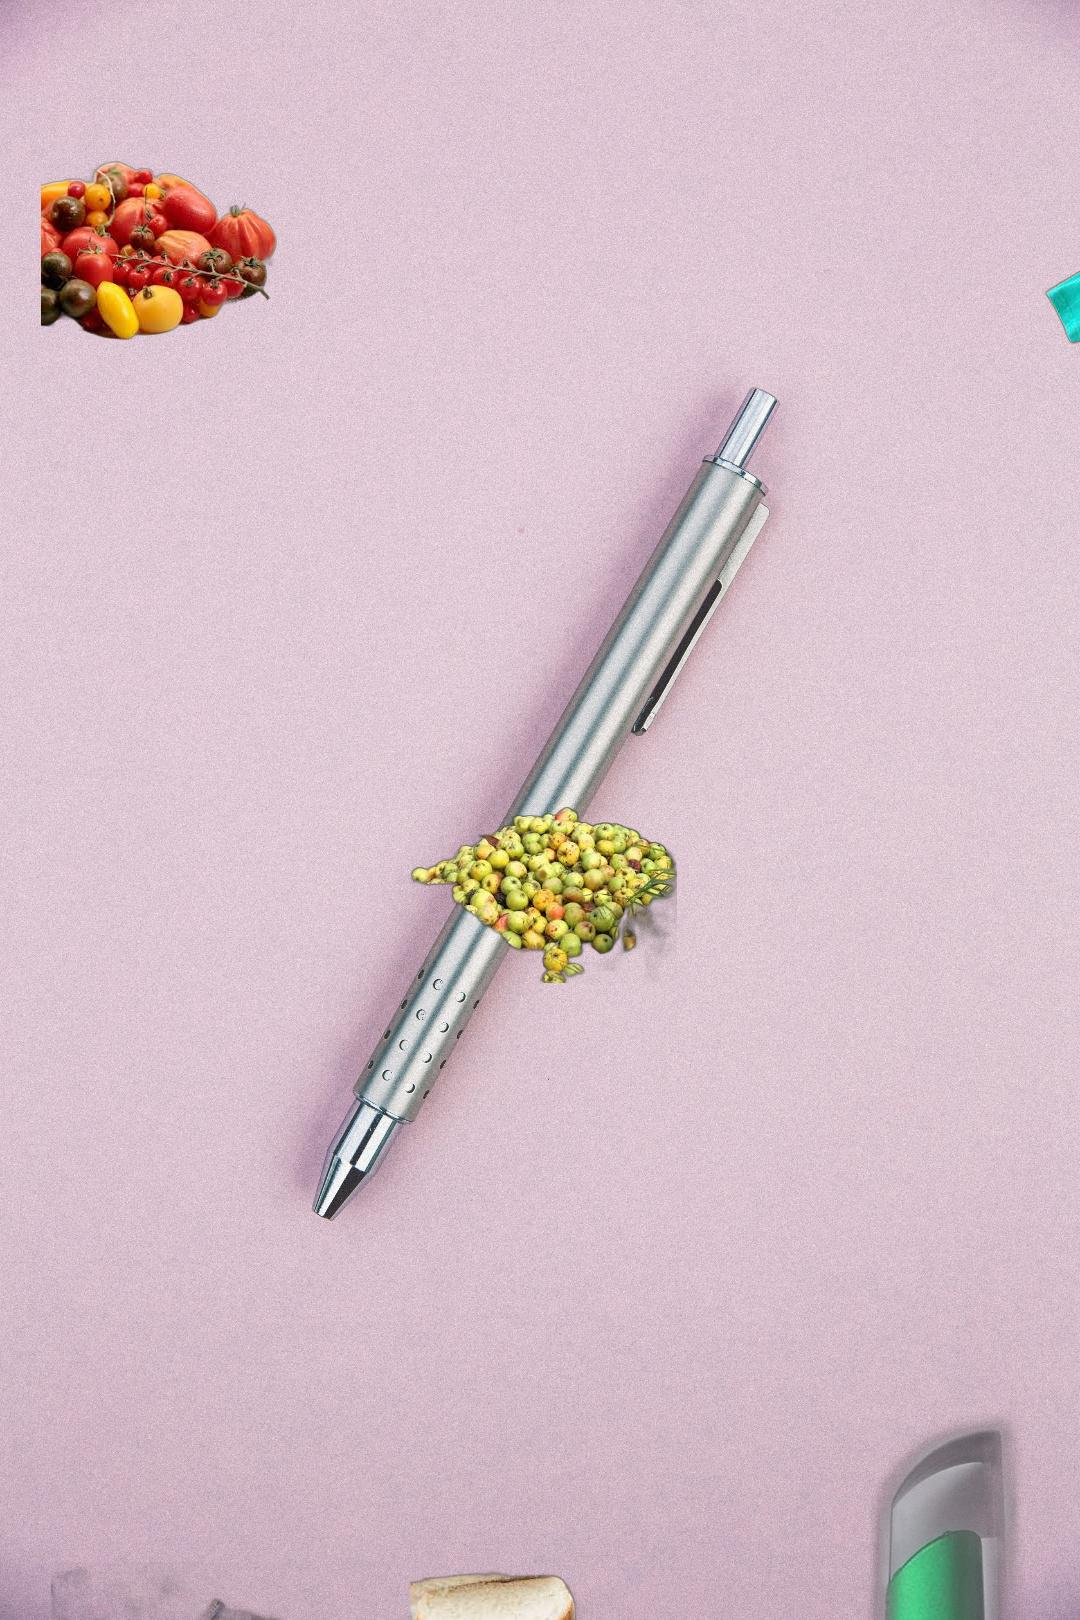battery: (51, 1562, 325, 1620)
biological: (397, 808, 677, 984), (41, 160, 278, 342), (410, 1568, 593, 1620)
clothes: (1032, 137, 1080, 579)
penholder: (574, 1408, 1080, 1620)
